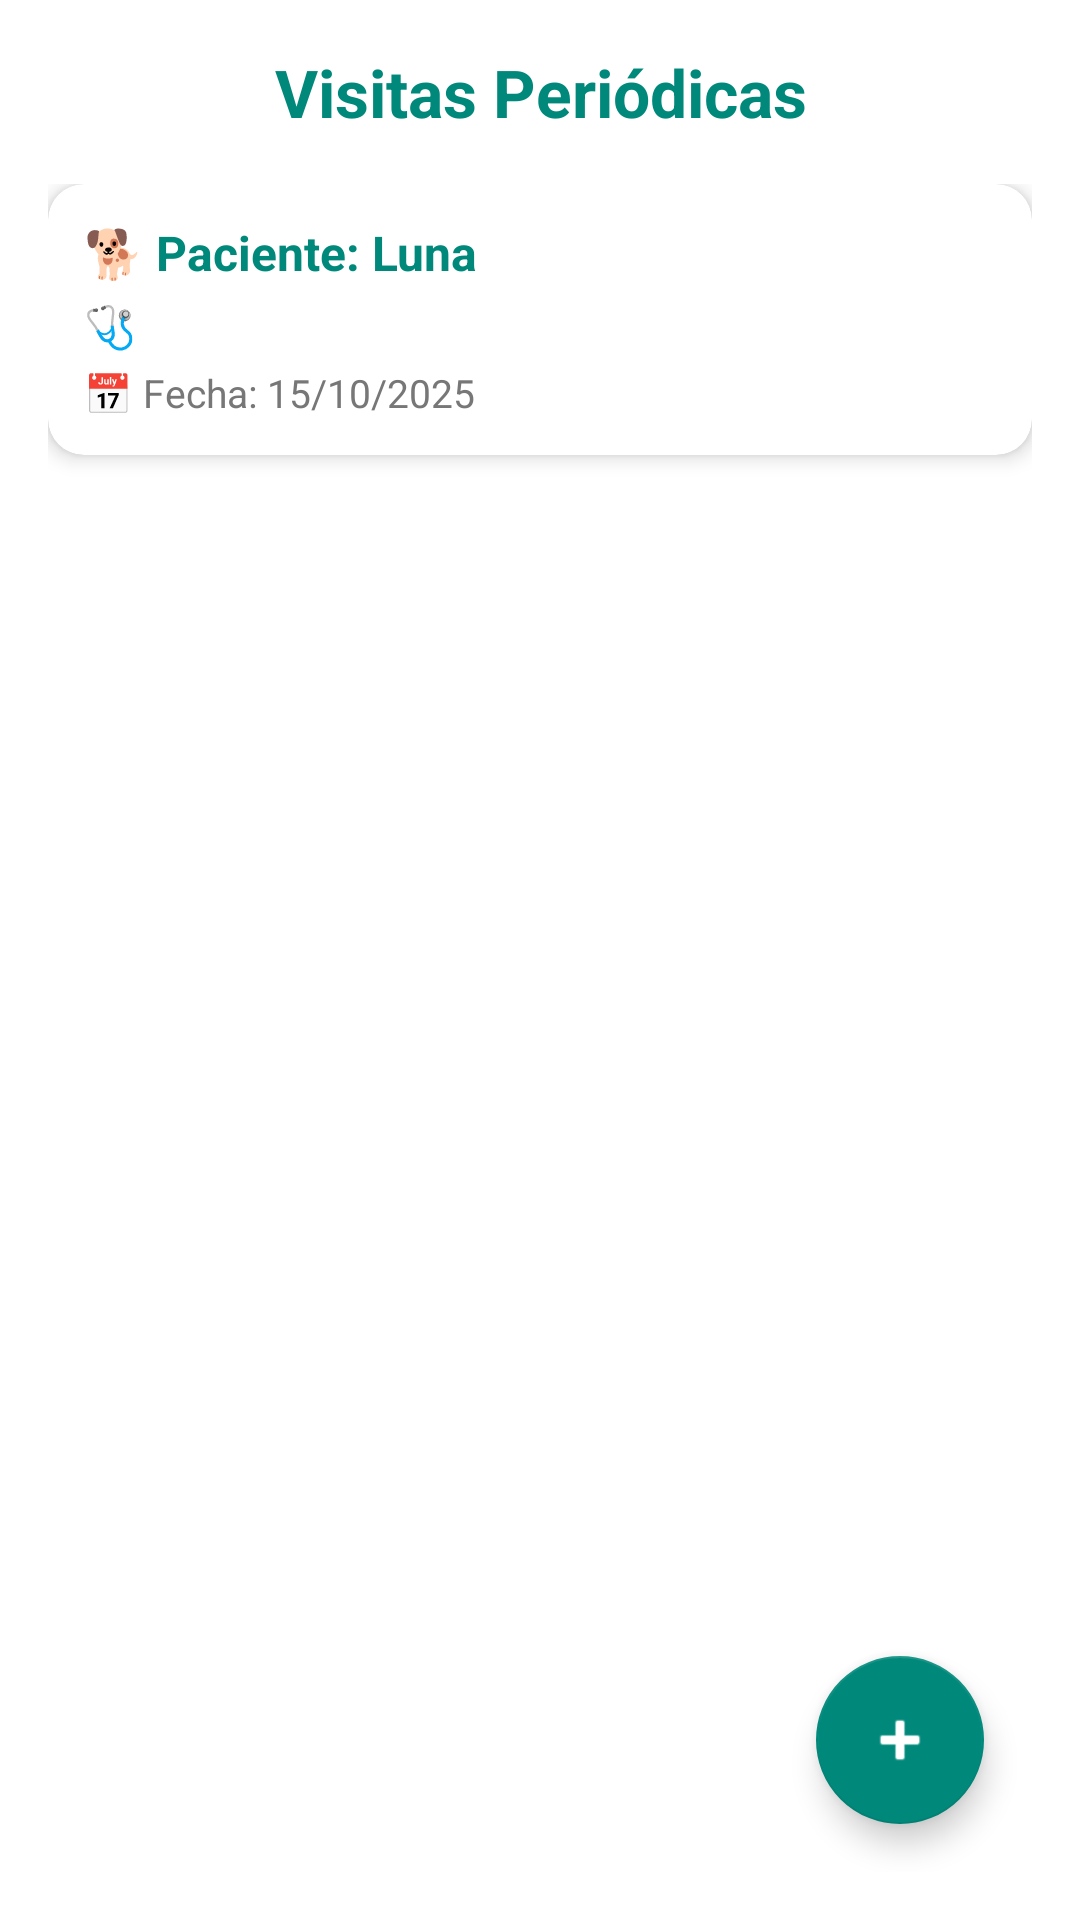

Screen size 1080 x 1920. Icon name, then its box in pixels as (x1, y1, x2, y2):
Registrar nueva visita: (816, 1656, 984, 1824)
